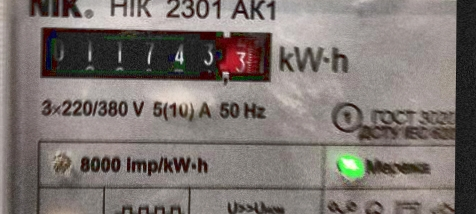0: (51, 35, 65, 63)
1: (112, 36, 124, 64), (83, 36, 93, 63)
3: (201, 40, 215, 67), (232, 49, 246, 74)
4: (171, 39, 185, 67)
7: (141, 36, 156, 64)
screen: (29, 16, 283, 92)
